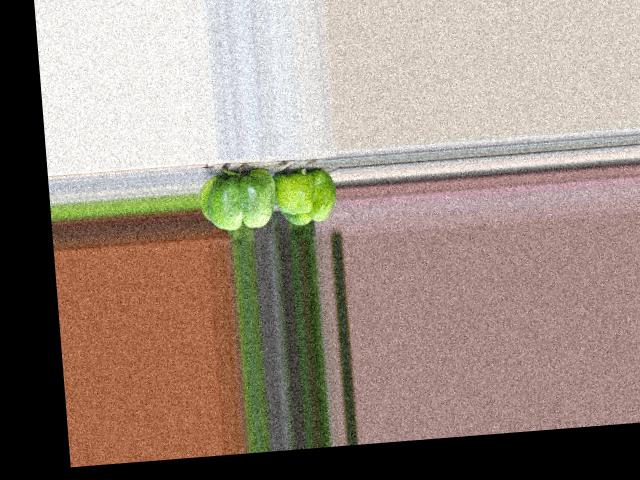bell_pepper: (271, 162, 340, 229)
